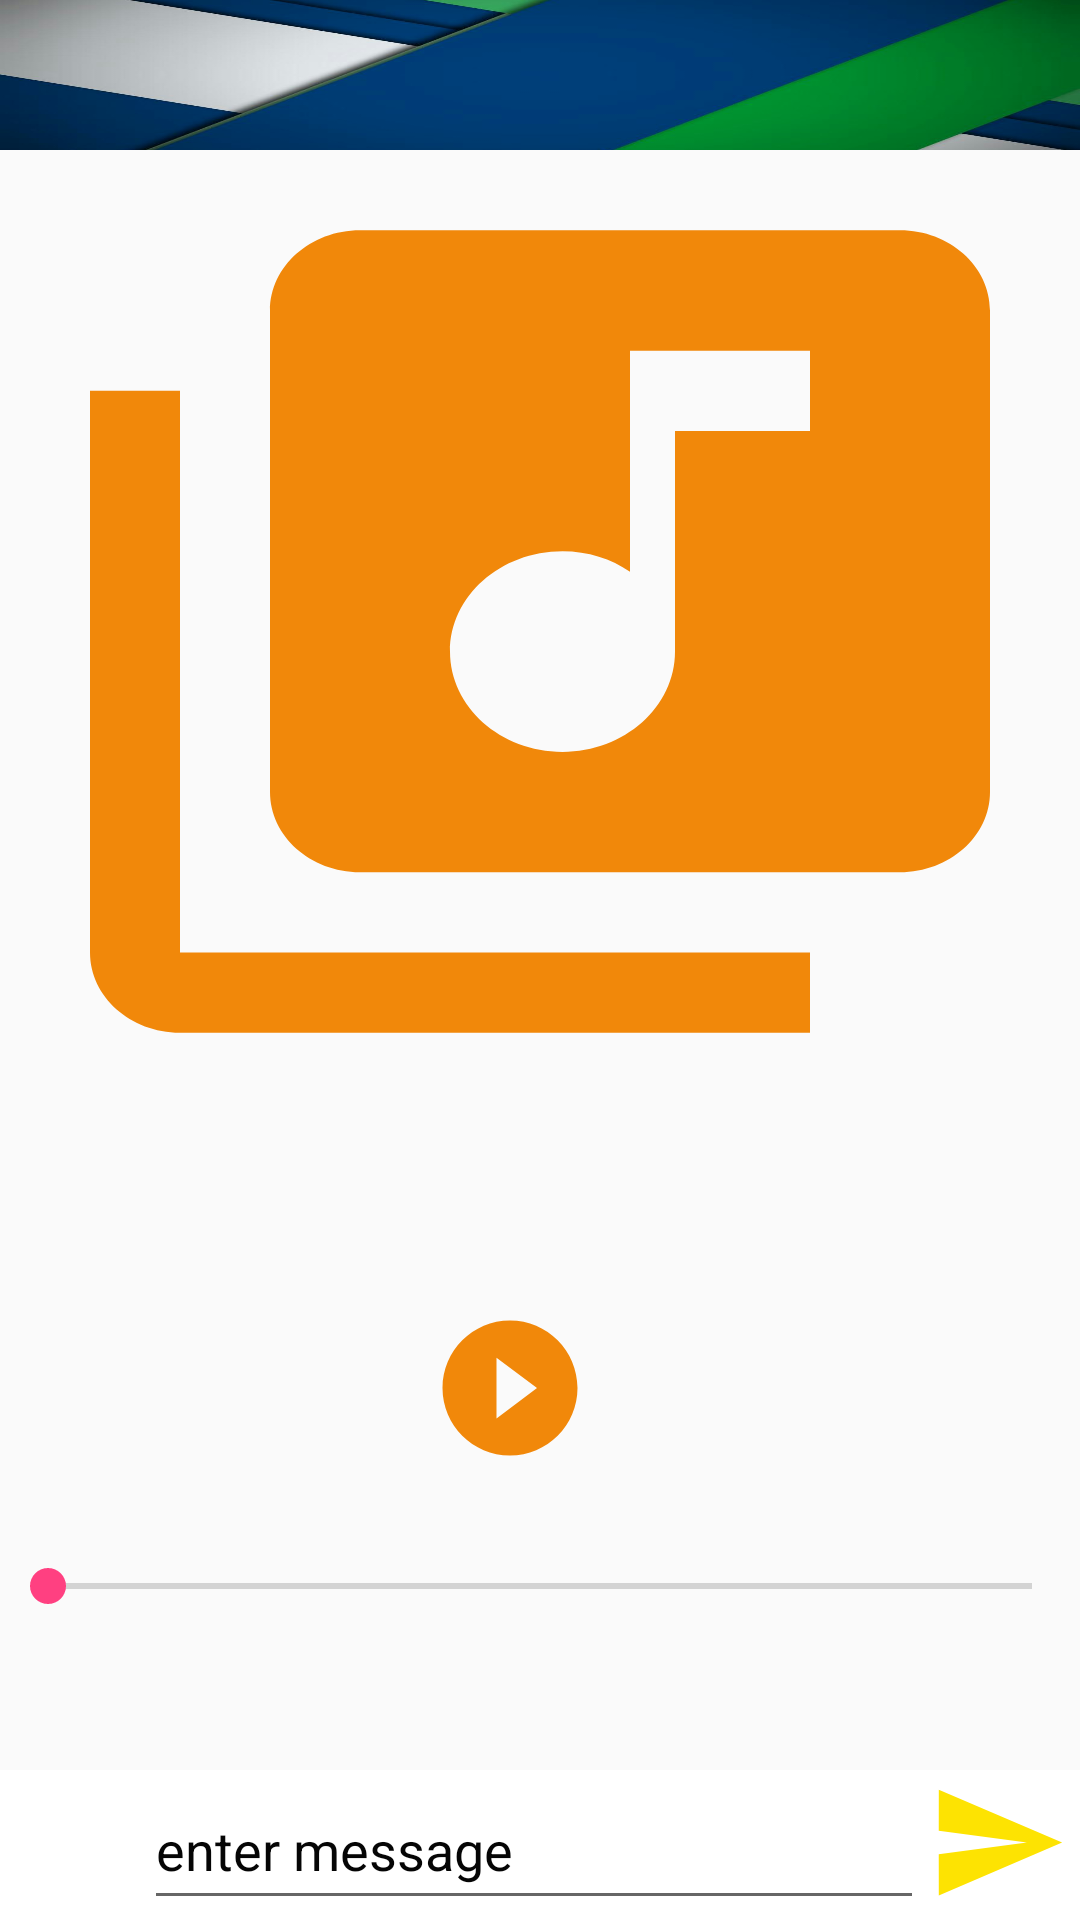

Locate icon controls on the screen. Image size 1080 x 1920, boxes as [x1,y1,x2,y2].
play: [442,1320,578,1456]
send: [938,1790,1062,1896]
